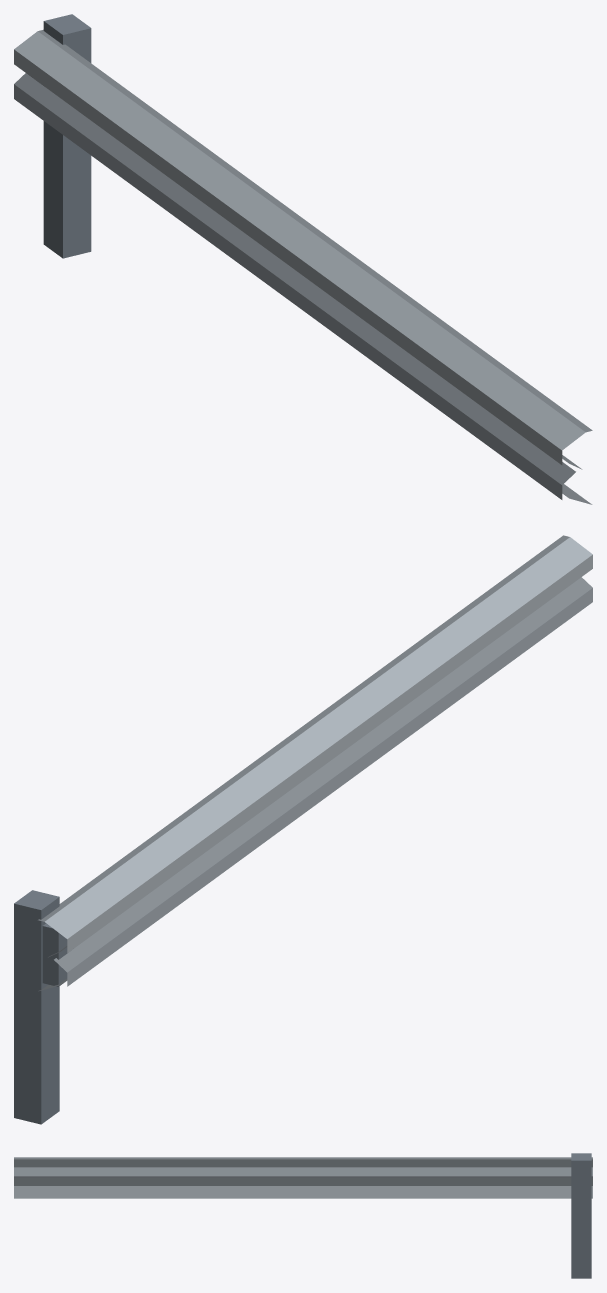
File: sw_trk_guardrail.glb
3 renders of one model, top to bottom at view 1: azimuth 30°, elevation 25°; view 2: azimuth 150°, elevation 25°; view 3: azimuth 270°, elevation 25°, orthographic. The views are drawn at different scales.
Visible parts, largest first — view 1: sw_trk_guardrail; view 2: sw_trk_guardrail; view 3: sw_trk_guardrail.
Boxes of the visible parts, x1=… form: sw_trk_guardrail: x1=14, y1=14, x2=592, y2=504; sw_trk_guardrail: x1=14, y1=535, x2=592, y2=1124; sw_trk_guardrail: x1=14, y1=1153, x2=592, y2=1278.
Size of the model in its own units: 0.2398 by 0.8999 by 4.
